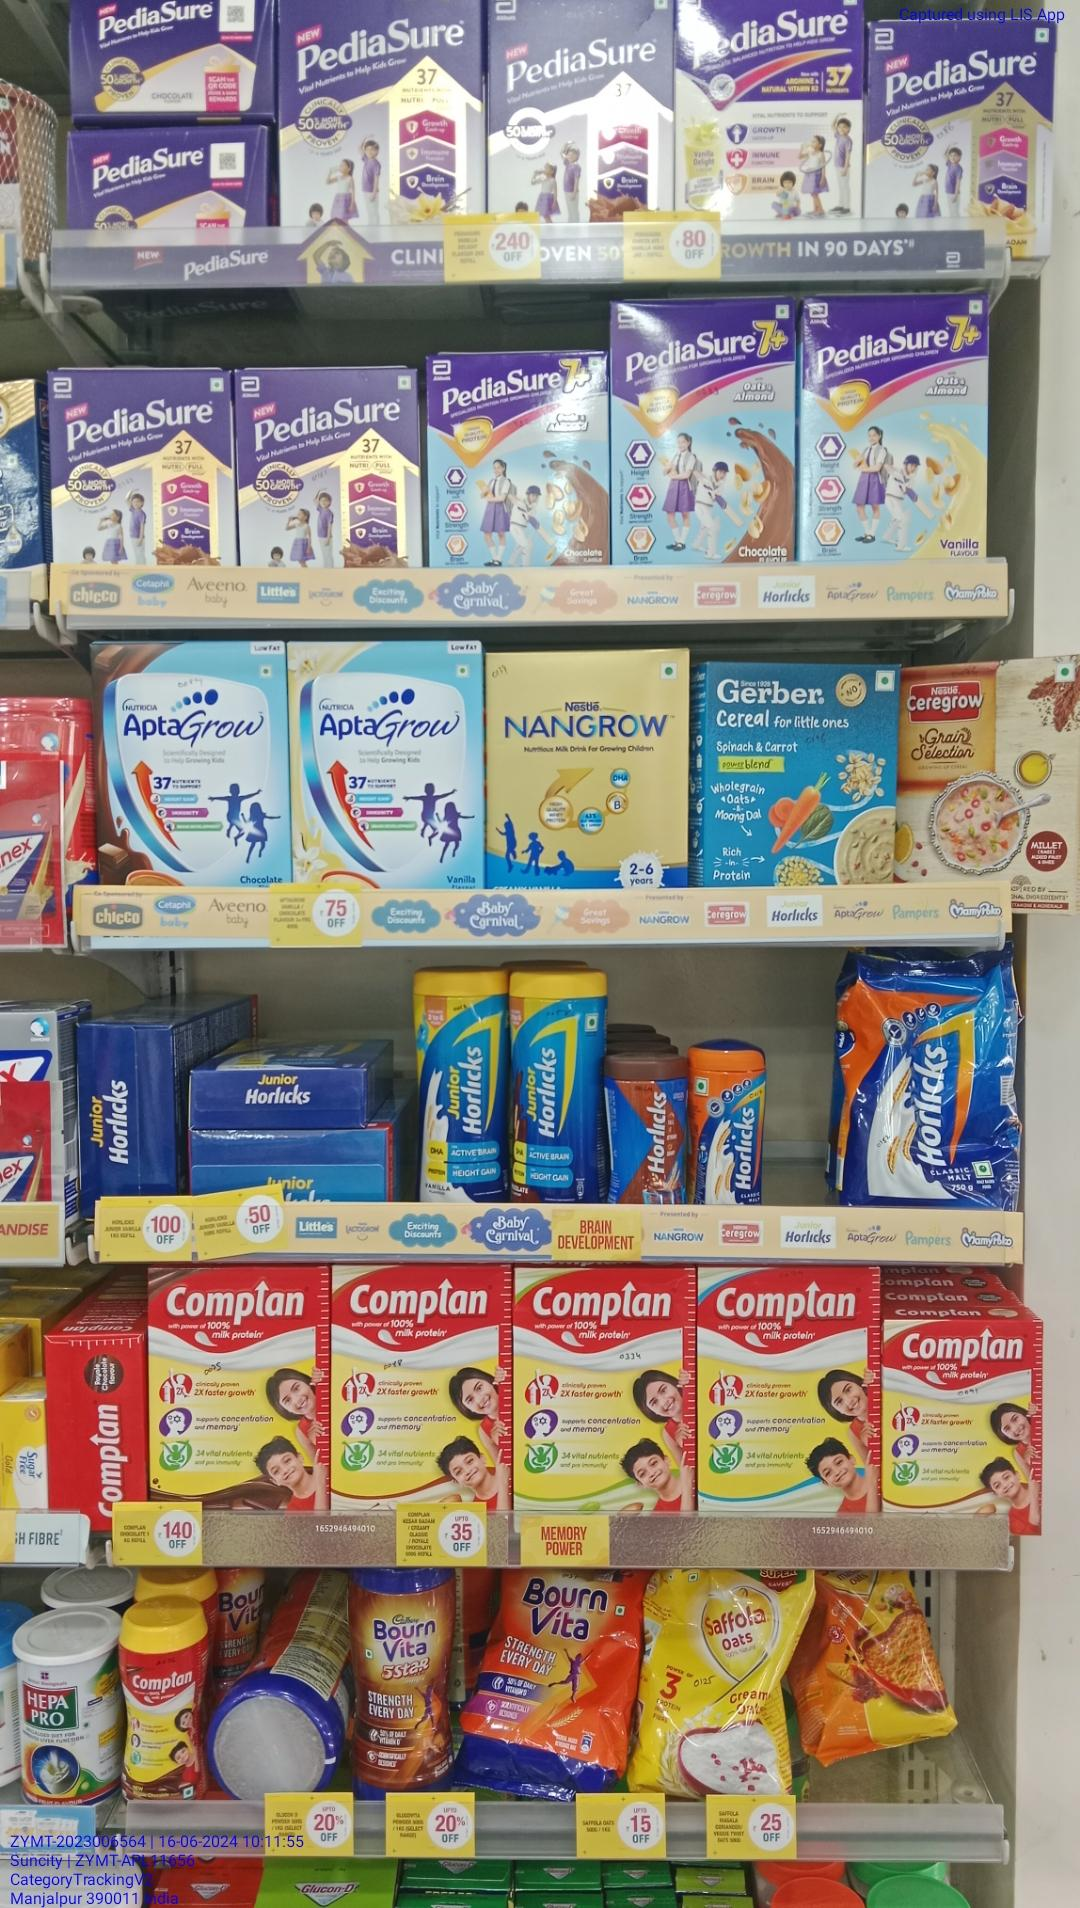COMPLAN_CHOCOLATE_500_GMS_JAR: (119, 1612, 206, 1799)
COMPLAN_KESAR_BADAM_200_GMS_PACK: (882, 1318, 1041, 1540)
